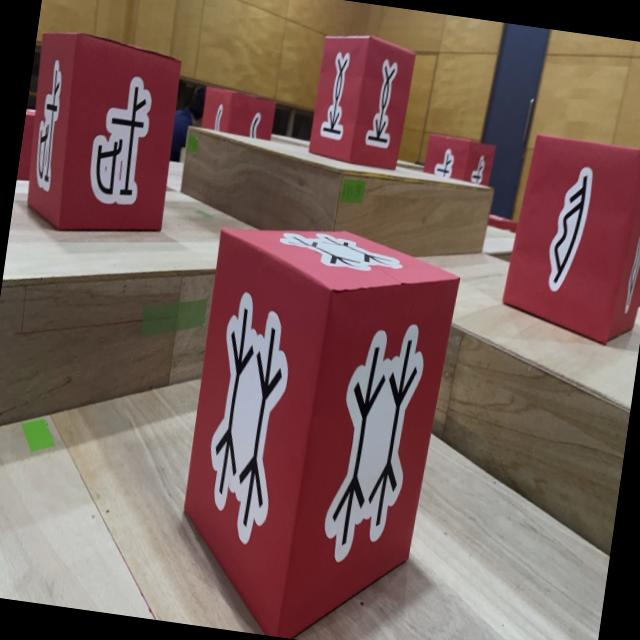11: (544, 164, 595, 296), (624, 186, 640, 318)
13: (250, 110, 262, 140), (214, 104, 223, 132)
5: (85, 70, 156, 210), (31, 57, 68, 193)
6: (320, 314, 430, 572), (198, 290, 298, 548)
7: (365, 58, 401, 150), (320, 51, 354, 140)
9: (433, 146, 455, 178), (470, 154, 487, 187)
fighter: (165, 212, 465, 640), (16, 25, 188, 246), (498, 132, 640, 350), (307, 27, 418, 172), (201, 85, 276, 140), (423, 132, 496, 186), (16, 107, 38, 180)
